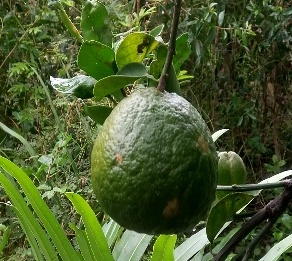Cam: (89, 85, 221, 237)
